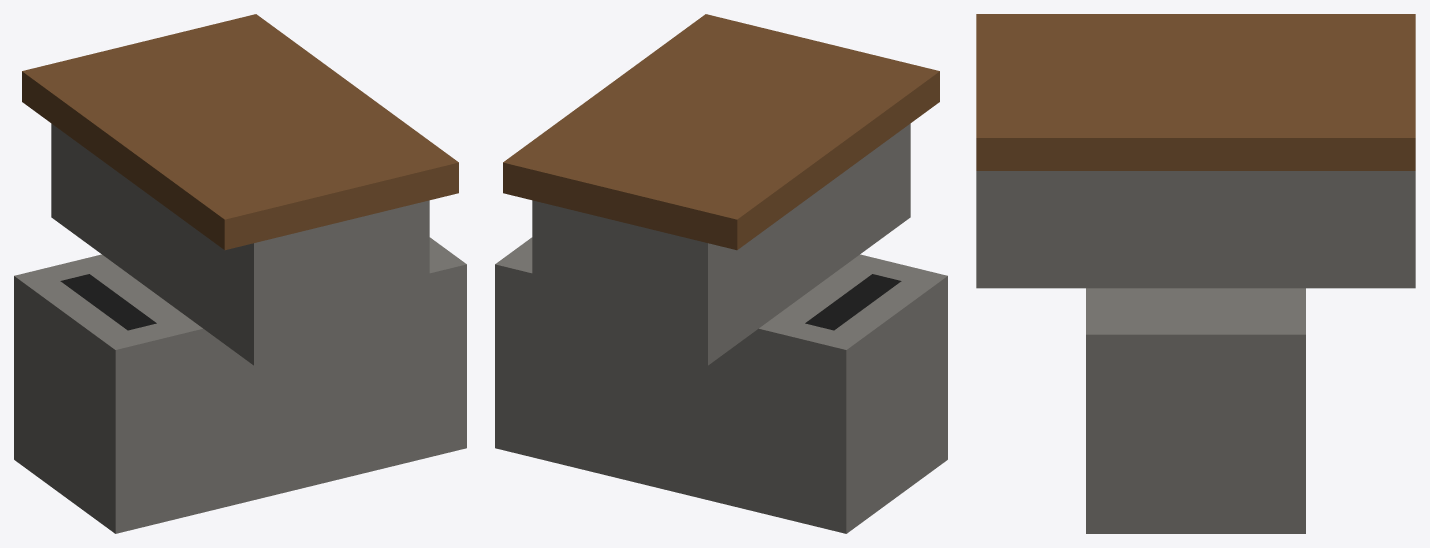
The model's file is abandoned_pickup_block_stack.glb.
The picture shows the model from 3 angles, left to right: view 1: azimuth 30°, elevation 25°; view 2: azimuth 150°, elevation 25°; view 3: azimuth 270°, elevation 25°; orthographic projection. The views are drawn at different scales.
Visible parts, largest first — view 1: body:compound; view 2: body:compound; view 3: body:compound.
Part boxes in pixels (x1,y1,x2,y2): body:compound: [14, 14, 466, 533]; body:compound: [495, 14, 947, 533]; body:compound: [976, 14, 1415, 533].
Bounding box in the file's own units: 0.375 × 0.3438 × 0.375.
